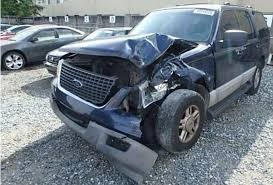Broken-glass: (129, 70, 174, 109)
Smashed: (54, 34, 203, 151)
